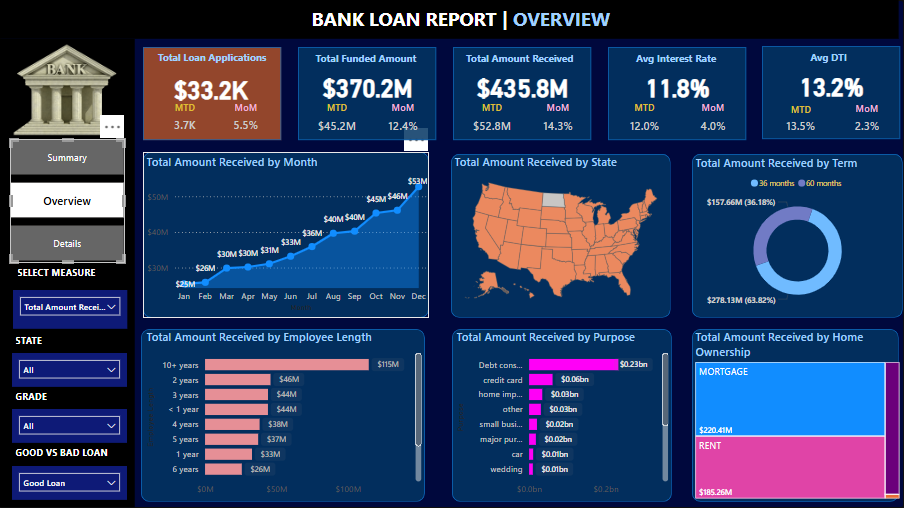

This screenshot's page, from the dashboard's own definition file:
{"tool":"powerbi","page":{"name":"Overview","canvas":[1280,720],"ordinal":1},"visuals":[{"type":"shape","box":[0,0,1279.8,55.3],"z":0},{"type":"shape","box":[1079.9,65.2,195.6,131.8],"z":0,"group":"g5"},{"type":"shape","box":[202.7,66.6,195.6,131.8],"z":0,"group":"g1"},{"type":"shape","box":[422.3,66.6,195.6,131.8],"z":0,"group":"g2"},{"type":"shape","box":[641.5,66.6,195.6,131.8],"z":0,"group":"g3"},{"type":"shape","box":[860.7,66.6,195.6,131.8],"z":0,"group":"g4"},{"type":"shape","box":[0,55.3,191.3,664.7],"z":1000},{"type":"card","fields":{"Values":["bank_loan_data.Avg DTI"]},"box":[1083.8,96.9,191.3,49.6],"z":1000,"group":"g5"},{"type":"card","fields":{"Values":["bank_loan_data.Total Funded Amount"]},"box":[426.2,98.3,191.3,49.6],"z":1000,"group":"g2"},{"type":"card","fields":{"Values":["bank_loan_data.Total Amount Received"]},"box":[645.4,98.3,191.3,49.6],"z":1000,"group":"g3"},{"type":"card","fields":{"Values":["bank_loan_data.Avg Interest Rate"]},"box":[864.6,98.3,191.3,49.6],"z":1000,"group":"g4"},{"type":"card","fields":{"Values":["bank_loan_data.Total Loan Applications"]},"box":[200.3,101.2,198.4,49.6],"z":1000,"group":"g1"},{"type":"textbox","box":[1078.9,66.1,195.6,31.2],"z":2000,"group":"g5"},{"type":"textbox","box":[202.7,66.6,195.6,31.2],"z":2000,"group":"g1"},{"type":"textbox","box":[421.3,67.5,195.6,31.2],"z":2000,"group":"g2"},{"type":"textbox","box":[640.5,67.5,195.6,31.2],"z":2000,"group":"g3"},{"type":"textbox","box":[859.7,67.5,195.6,31.2],"z":2000,"group":"g4"},{"type":"shape","box":[202.7,215.4,405.4,235.3],"z":2000},{"type":"textbox","box":[436.5,2.8,449.3,52.4],"z":3000},{"type":"card","title":"MTD","fields":{"Values":["bank_loan_data.MTD Loan Applications"]},"box":[231.1,143.7,62.4,55.3],"z":3000,"group":"g1"},{"type":"card","title":"MTD","fields":{"Values":["bank_loan_data.MTD Funded Amount"]},"box":[443.2,143.7,70.9,56.7],"z":3000,"group":"g2"},{"type":"card","title":"MTD","fields":{"Values":["bank_loan_data.MTD Total Amount Recieved"]},"box":[661.3,143.7,70.9,56.7],"z":3000,"group":"g3"},{"type":"card","title":"MTD","fields":{"Values":["bank_loan_data.MTD Avg Int Rate"]},"box":[873.2,143.7,78,56.7],"z":3000,"group":"g4"},{"type":"card","title":"MTD","fields":{"Values":["bank_loan_data.MTD Avg DTI"]},"box":[1100.3,145.7,70.9,52.4],"z":3000,"group":"g5"},{"type":"group","id":"g1","title":"Group 1","box":[200.3,66.6,198.4,132.4],"z":4000},{"type":"card","title":"MoM","fields":{"Values":["bank_loan_data.MoM Loan Application"]},"box":[314.7,143.7,68,55.3],"z":4000,"group":"g1"},{"type":"card","title":"MoM","fields":{"Values":["bank_loan_data.MoM Total Funded Amount"]},"box":[542.4,143.7,59.5,56.7],"z":4000,"group":"g2"},{"type":"card","title":"MoM","fields":{"Values":["bank_loan_data.MoM Total Amount Recieved"]},"box":[760.5,143.7,59.5,56.7],"z":4000,"group":"g3"},{"type":"card","title":"MoM","fields":{"Values":["bank_loan_data.MoM Avg Int Rate"]},"box":[979.5,143.7,59.5,56.7],"z":4000,"group":"g4"},{"type":"card","title":"MoM","fields":{"Values":["bank_loan_data.MoM Avg DTI"]},"box":[1199.5,144.3,59.5,53.9],"z":4000,"group":"g5"},{"type":"group","id":"g2","title":"Group 1","box":[421.3,66.6,196.6,133.8],"z":5000},{"type":"group","id":"g3","title":"Group 1","box":[640.5,66.6,196.6,133.8],"z":6000},{"type":"group","id":"g4","title":"Group 1","box":[859.7,66.6,196.6,133.8],"z":7000},{"type":"group","id":"g5","title":"Group 1","box":[1078.9,65.2,196.6,132.9],"z":8000},{"type":"slicer","fields":{"Values":["bank_loan_data.address_state"]},"box":[17,500.3,163,48.2],"z":9000},{"type":"textbox","box":[17,469.1,60.9,31.2],"z":10000},{"type":"slicer","fields":{"Values":["bank_loan_data.grade"]},"box":[17,579.7,163,48.2],"z":11000},{"type":"textbox","box":[17,548.5,72.3,31.2],"z":12000},{"type":"areaChart","fields":{"Y":["bank_loan_data.Total Amount Received"],"Category":["Date Table.Month"]},"box":[202.7,218.3,408.2,228.2],"z":15000},{"type":"textbox","box":[19.8,372.8,138.9,29.8],"z":16000},{"type":"shape","box":[639.2,218.3,311.8,232.4],"z":17000},{"type":"shapeMap","fields":{"Value":["bank_loan_data.Total Amount Received"],"Category":["bank_loan_data.address_state"]},"box":[639.2,218.3,311.8,223.9],"z":18000},{"type":"shape","box":[980.8,218.3,299.1,232.4],"z":19000},{"type":"donutChart","fields":{"Y":["bank_loan_data.Total Amount Received"],"Category":["bank_loan_data.term"]},"box":[980.8,219.7,299.1,222.5],"z":20000},{"type":"shape","box":[199.8,466.3,402.5,245.2],"z":21000},{"type":"barChart","fields":{"Y":["bank_loan_data.Total Amount Received"],"Category":["bank_loan_data.emp_length"]},"box":[202.7,466.3,399.7,245.2],"z":22000},{"type":"shape","box":[640.6,466.3,311.8,245.2],"z":23000},{"type":"barChart","fields":{"Y":["bank_loan_data.Total Amount Received"],"Category":["bank_loan_data.purpose"]},"box":[642,466.3,310.4,245.2],"z":24000},{"type":"shape","box":[980.8,466.3,293.4,245.2],"z":25000},{"type":"treemap","fields":{"Values":["bank_loan_data.Total Amount Received"],"Group":["bank_loan_data.home_ownership"]},"box":[980.8,466.3,299.1,245.2],"z":26000},{"type":"slicer","fields":{"Values":["Select Measure.Select Measure"]},"box":[18.4,411,161.6,55.3],"z":27000},{"type":"slicer","fields":{"Values":["bank_loan_data.Good Vs Bad Loan"]},"box":[17,660.5,163,48.2],"z":27001},{"type":"textbox","box":[17,627.9,163,32.6],"z":27002},{"type":"image","box":[14.2,55.3,163,144.6],"z":27003},{"type":"pageNavigator","box":[14.2,197,163,175.7],"z":27004}]}

Visuals, with their boxes in screenshot pixels (x1, y1, x2, y2), scaled from the page's 1280x720 canvas onto the 904x508 screenshot:
shape: [x1=0, y1=0, x2=903, y2=39]
shape: [x1=763, y1=46, x2=901, y2=139]
shape: [x1=143, y1=47, x2=281, y2=140]
shape: [x1=298, y1=47, x2=436, y2=140]
shape: [x1=453, y1=47, x2=591, y2=140]
shape: [x1=608, y1=47, x2=746, y2=140]
shape: [x1=0, y1=39, x2=135, y2=507]
card - bank_loan_data.Avg DTI: [x1=765, y1=68, x2=901, y2=103]
card - bank_loan_data.Total Funded Amount: [x1=301, y1=69, x2=436, y2=104]
card - bank_loan_data.Total Amount Received: [x1=456, y1=69, x2=591, y2=104]
card - bank_loan_data.Avg Interest Rate: [x1=611, y1=69, x2=746, y2=104]
card - bank_loan_data.Total Loan Applications: [x1=141, y1=71, x2=282, y2=106]
textbox: [x1=762, y1=47, x2=900, y2=69]
textbox: [x1=143, y1=47, x2=281, y2=69]
textbox: [x1=298, y1=48, x2=436, y2=70]
textbox: [x1=452, y1=48, x2=590, y2=70]
textbox: [x1=607, y1=48, x2=745, y2=70]
shape: [x1=143, y1=152, x2=429, y2=318]
textbox: [x1=308, y1=2, x2=626, y2=39]
"MTD" card: [x1=163, y1=101, x2=207, y2=140]
"MTD" card: [x1=313, y1=101, x2=363, y2=141]
"MTD" card: [x1=467, y1=101, x2=517, y2=141]
"MTD" card: [x1=617, y1=101, x2=672, y2=141]
"MTD" card: [x1=777, y1=103, x2=827, y2=140]
"Group 1" group: [x1=141, y1=47, x2=282, y2=140]
"MoM" card: [x1=222, y1=101, x2=270, y2=140]
"MoM" card: [x1=383, y1=101, x2=425, y2=141]
"MoM" card: [x1=537, y1=101, x2=579, y2=141]
"MoM" card: [x1=692, y1=101, x2=734, y2=141]
"MoM" card: [x1=847, y1=102, x2=889, y2=140]
"Group 1" group: [x1=298, y1=47, x2=436, y2=141]
"Group 1" group: [x1=452, y1=47, x2=591, y2=141]
"Group 1" group: [x1=607, y1=47, x2=746, y2=141]
"Group 1" group: [x1=762, y1=46, x2=901, y2=140]
slicer - bank_loan_data.address_state: [x1=12, y1=353, x2=127, y2=387]
textbox: [x1=12, y1=331, x2=55, y2=353]
slicer - bank_loan_data.grade: [x1=12, y1=409, x2=127, y2=443]
textbox: [x1=12, y1=387, x2=63, y2=409]
areaChart - bank_loan_data.Total Amount Received x Date Table.Month: [x1=143, y1=154, x2=431, y2=315]
textbox: [x1=14, y1=263, x2=112, y2=284]
shape: [x1=451, y1=154, x2=672, y2=318]
shapeMap - bank_loan_data.Total Amount Received x bank_loan_data.address_state: [x1=451, y1=154, x2=672, y2=312]
shape: [x1=693, y1=154, x2=903, y2=318]
donutChart - bank_loan_data.Total Amount Received x bank_loan_data.term: [x1=693, y1=155, x2=903, y2=312]
shape: [x1=141, y1=329, x2=425, y2=502]
barChart - bank_loan_data.Total Amount Received x bank_loan_data.emp_length: [x1=143, y1=329, x2=425, y2=502]
shape: [x1=452, y1=329, x2=673, y2=502]
barChart - bank_loan_data.Total Amount Received x bank_loan_data.purpose: [x1=453, y1=329, x2=673, y2=502]
shape: [x1=693, y1=329, x2=900, y2=502]
treemap - bank_loan_data.Total Amount Received x bank_loan_data.home_ownership: [x1=693, y1=329, x2=903, y2=502]
slicer - Select Measure.Select Measure: [x1=13, y1=290, x2=127, y2=329]
slicer - bank_loan_data.Good Vs Bad Loan: [x1=12, y1=466, x2=127, y2=500]
textbox: [x1=12, y1=443, x2=127, y2=466]
image: [x1=10, y1=39, x2=125, y2=141]
pageNavigator: [x1=10, y1=139, x2=125, y2=263]
